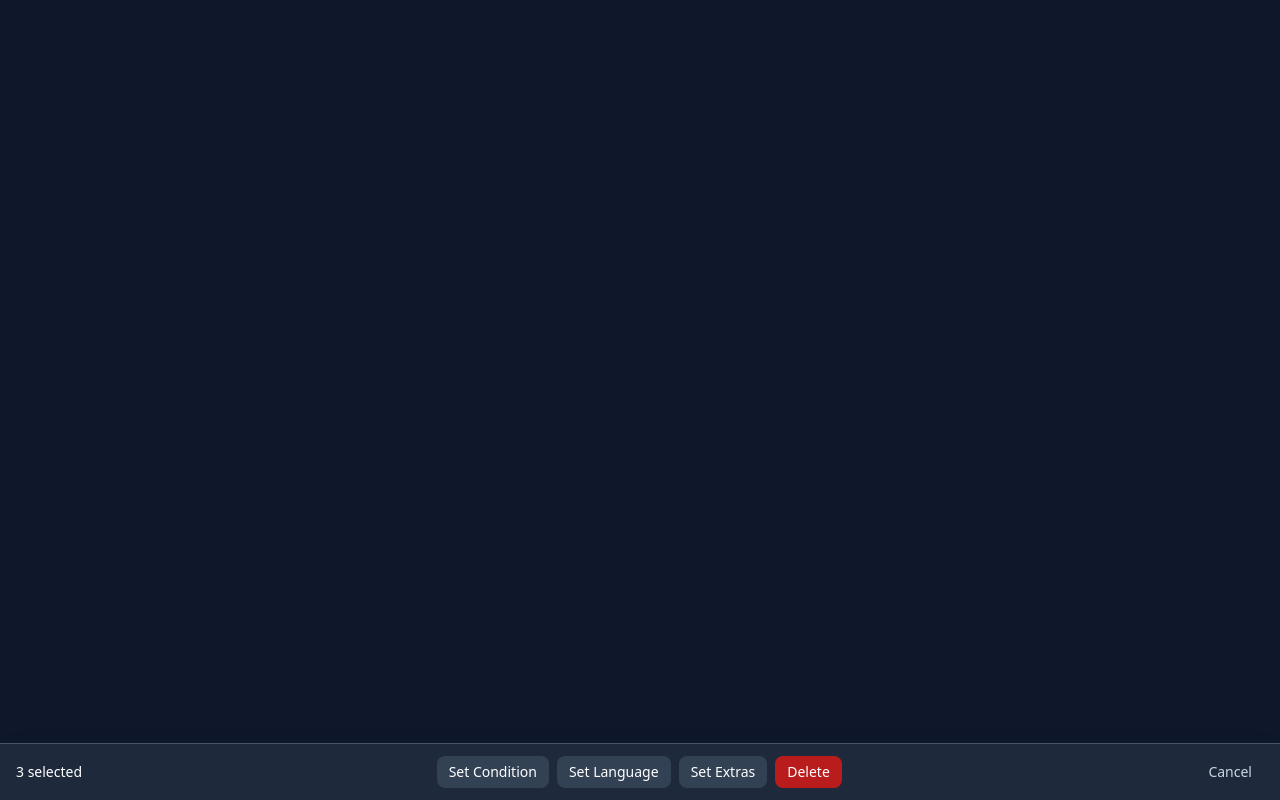
BulkActionsToolbar › cancel on delete dialog closes it
The width and height of the screenshot is (1280, 800).
Click the button with test id "bulk-delete". click: (808, 772)
box: [775, 756, 842, 788]
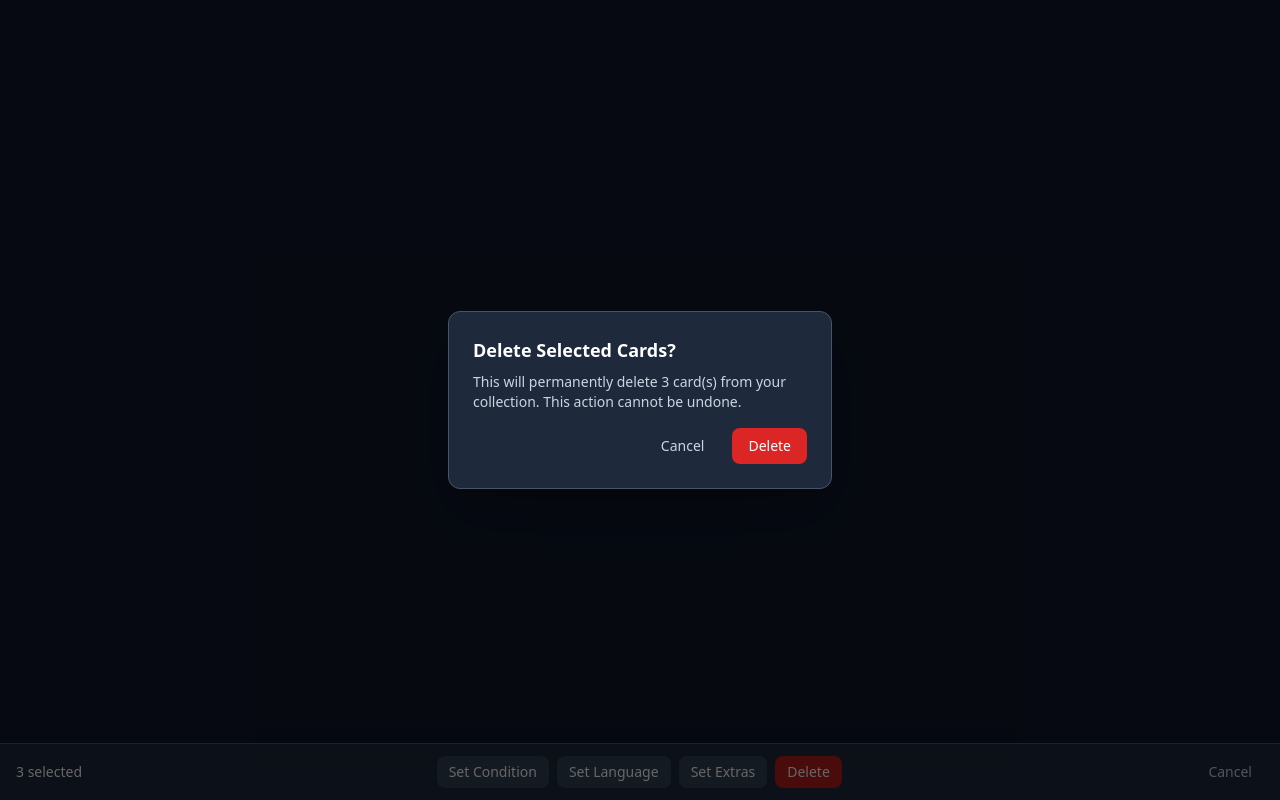
Expected: the element with test id "delete-confirm-dialog" is shown
Click the button with test id "delete-cancel". click: (683, 446)
box: [645, 428, 720, 464]
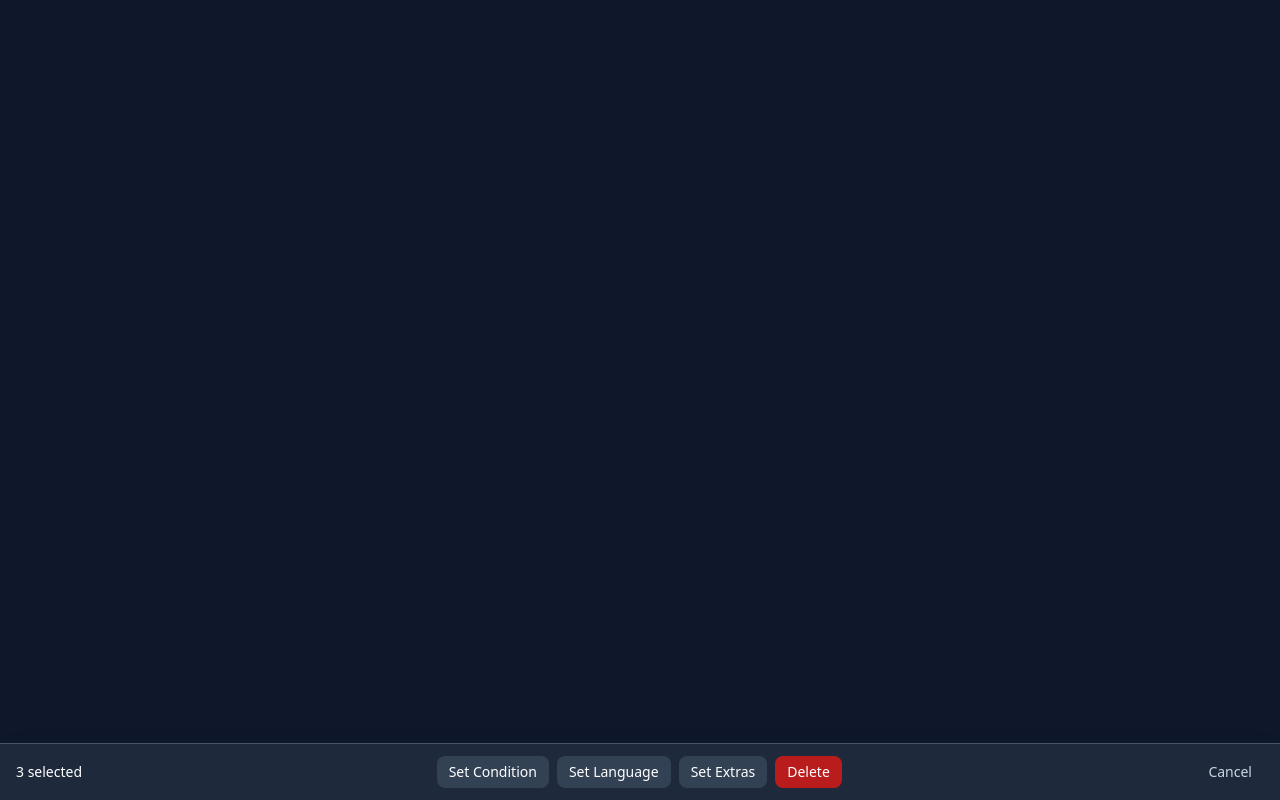
Expected: the element with test id "delete-confirm-dialog" is gone
